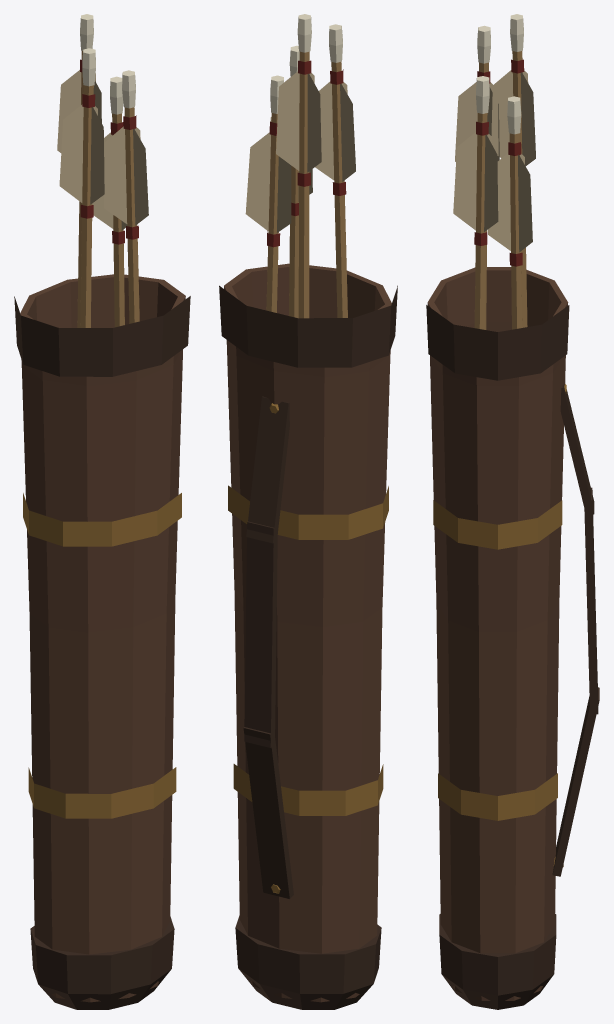
The model's file is mdvl_weapons_quiver_01.glb.
The picture shows the model from 3 angles, left to right: view 1: azimuth 30°, elevation 25°; view 2: azimuth 150°, elevation 25°; view 3: azimuth 270°, elevation 25°; orthographic projection.
Parts seen in each view (by area): view 1: mdvl_weapons_quiver_01; view 2: mdvl_weapons_quiver_01; view 3: mdvl_weapons_quiver_01.
Boxes of the visible parts, <box> form: mdvl_weapons_quiver_01: <box>14,14,190,1009</box>; mdvl_weapons_quiver_01: <box>219,14,397,1009</box>; mdvl_weapons_quiver_01: <box>426,14,599,1009</box>.
Bounding box in the file's own units: 0.137 × 0.7771 × 0.1262.
1 material, 1 textured.
